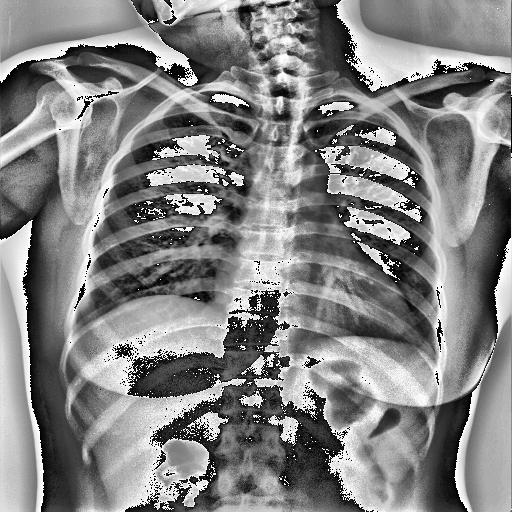3- Cardiomegaly: (214, 256, 418, 346), (213, 258, 414, 339), (212, 265, 404, 341)
